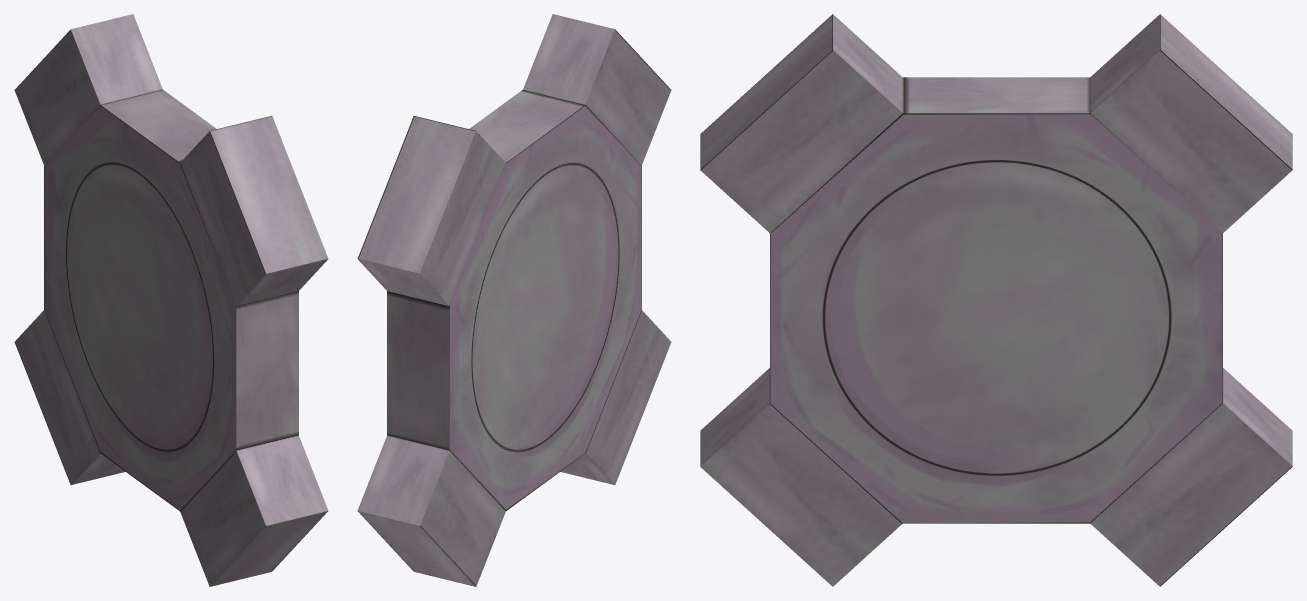
The model's file is gear.fbx.
3 views of the same model, side by side, from view 1: azimuth 30°, elevation 25°; view 2: azimuth 150°, elevation 25°; view 3: azimuth 270°, elevation 25° (orthographic). The views are drawn at different scales.
Visible parts, largest first — view 1: engrenagem; view 2: engrenagem; view 3: engrenagem.
Part boxes in pixels (x1,y1,x2,y2): engrenagem: [14, 14, 328, 586]; engrenagem: [357, 14, 671, 586]; engrenagem: [700, 14, 1292, 586].
Size of the model in its own units: 344 by 2399 by 2399.
